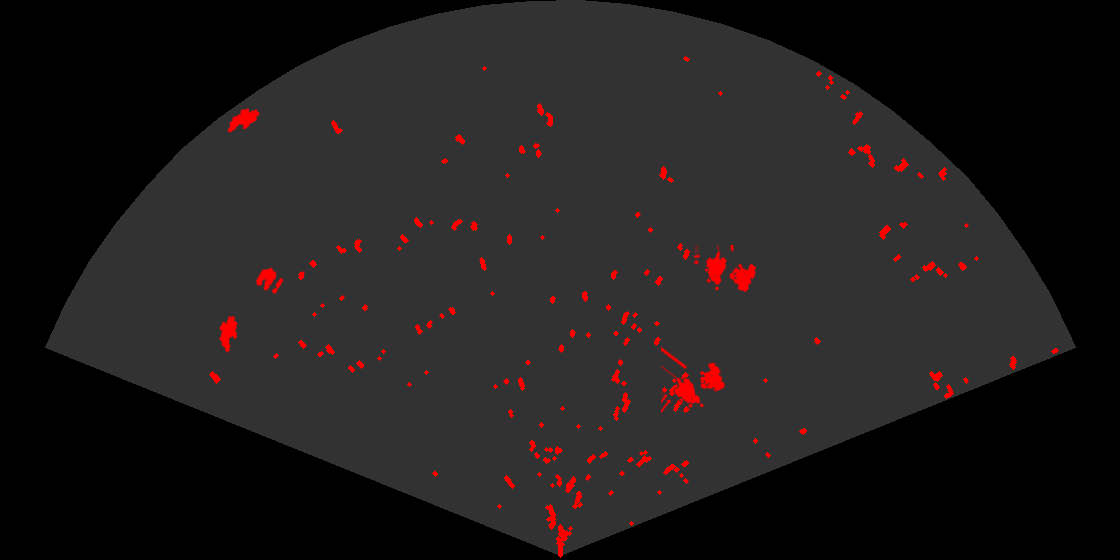AUV: (226, 107, 261, 134), (218, 314, 239, 354)
ball: (254, 266, 285, 296)
cage: (661, 345, 727, 415), (694, 245, 758, 294)
